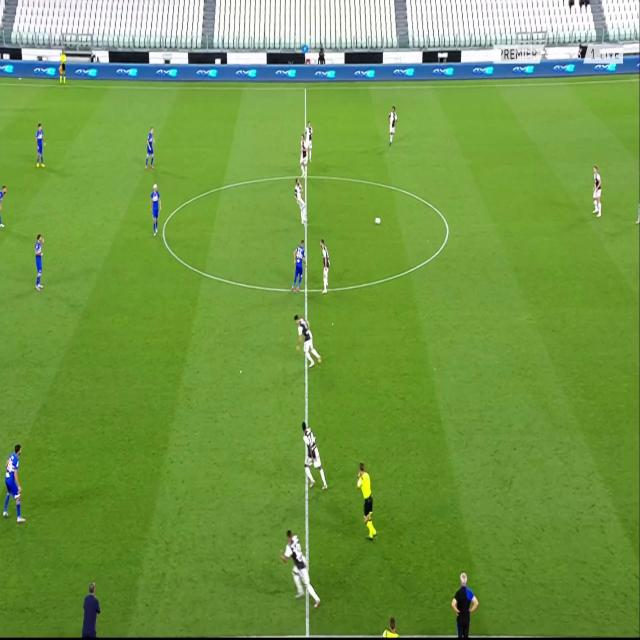ball: (374, 215, 382, 226)
player: (276, 532, 324, 611), (0, 438, 25, 526), (300, 416, 328, 494), (292, 315, 320, 368), (318, 238, 333, 296), (591, 162, 606, 220), (34, 234, 48, 292), (292, 240, 307, 292), (294, 176, 308, 228), (148, 182, 161, 237), (34, 124, 49, 169), (377, 615, 403, 640), (145, 125, 157, 172), (298, 133, 310, 177), (387, 105, 399, 146), (305, 122, 315, 163), (0, 182, 8, 233)
referee: (355, 461, 379, 541), (58, 48, 67, 85)
